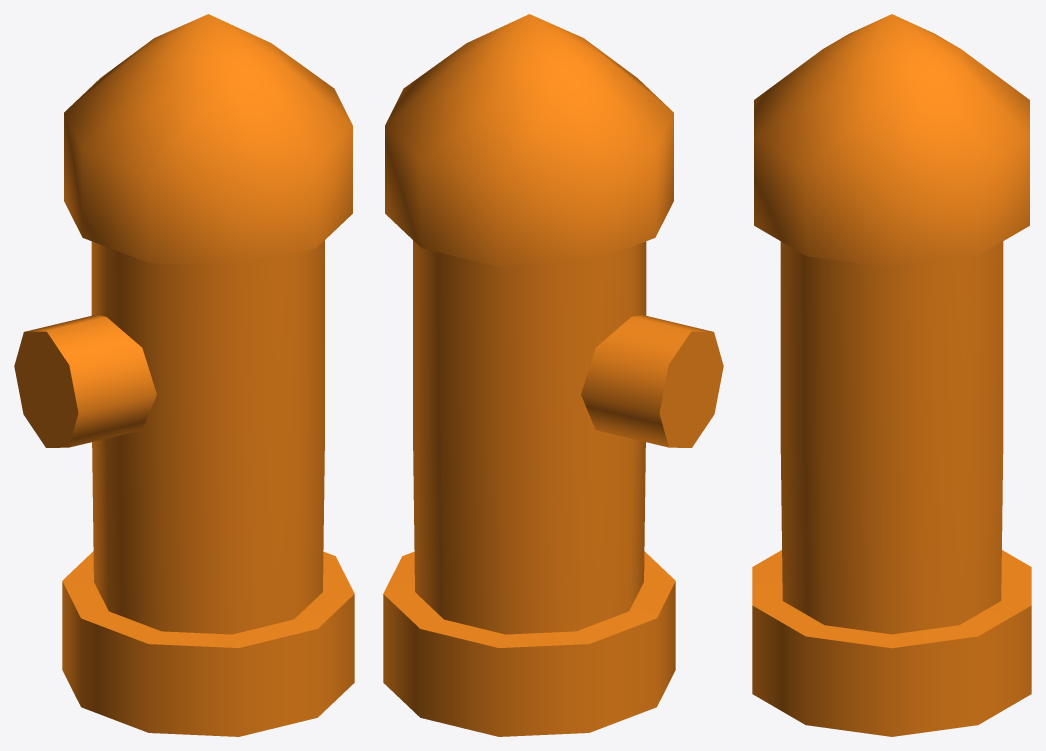
Rendered from fire_hydrant.fbx.
3 views of the same model, side by side, from view 1: azimuth 30°, elevation 25°; view 2: azimuth 150°, elevation 25°; view 3: azimuth 270°, elevation 25° (orthographic).
Visible parts, largest first — view 1: cylinder, cylinder1; view 2: cylinder, cylinder1; view 3: cylinder.
Part boxes in pixels (<box>): cylinder: <box>62,14,354,736</box>; cylinder1: <box>14,314,156,447</box>; cylinder: <box>383,14,675,736</box>; cylinder1: <box>581,314,723,447</box>; cylinder: <box>752,14,1031,736</box>.
Bounding box in the file's own units: 2.27 × 4.97 × 1.9.
